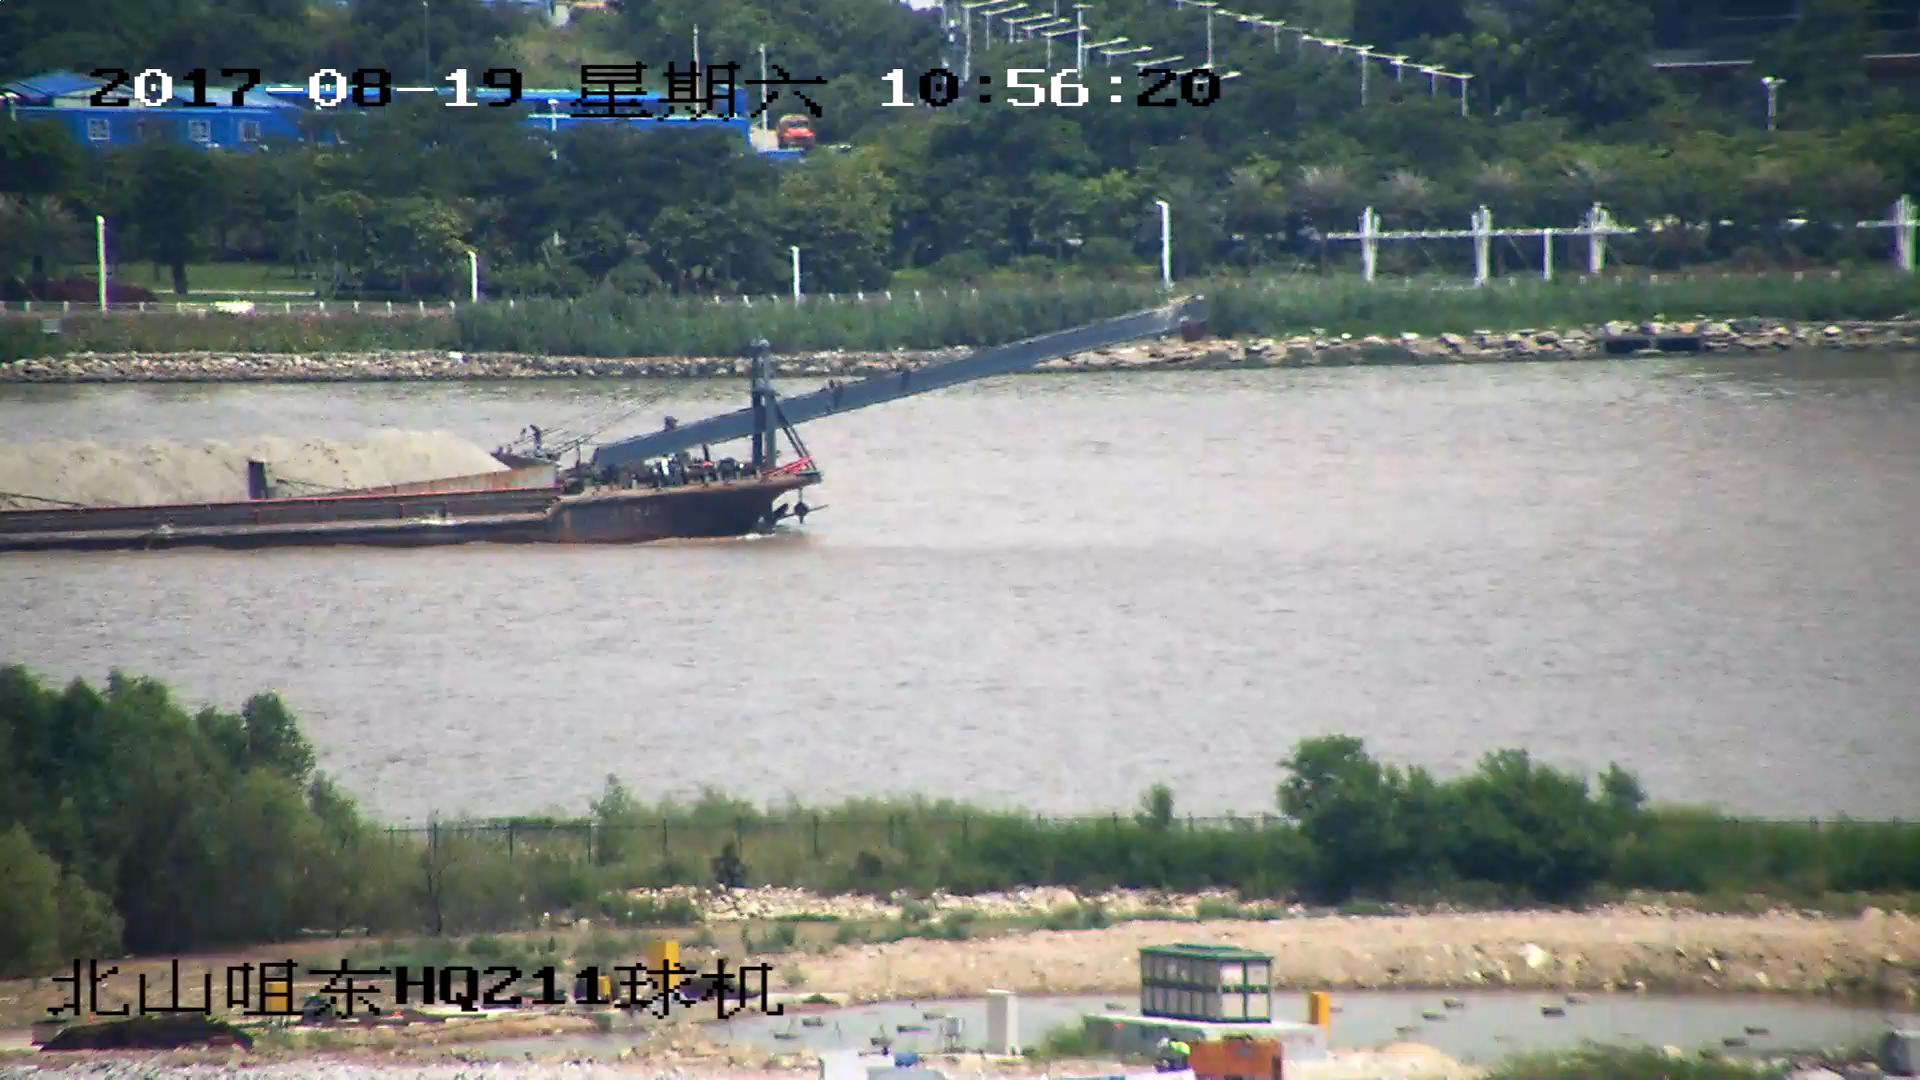ore carrier: (1, 299, 1202, 555)
